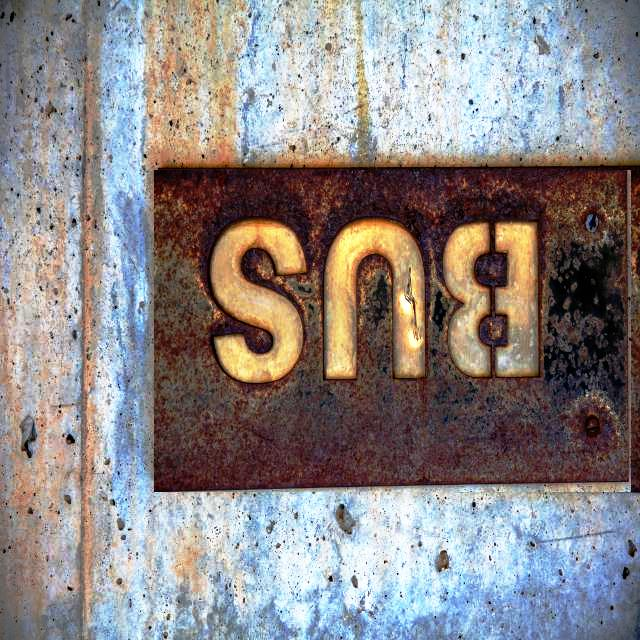Corrosion: (154, 380, 618, 491), (194, 167, 554, 256), (154, 168, 227, 421), (528, 244, 625, 414), (525, 166, 628, 300), (153, 310, 244, 460), (544, 244, 626, 400), (394, 356, 550, 419), (271, 346, 359, 419), (352, 254, 393, 400), (293, 230, 328, 383), (591, 366, 630, 482), (204, 370, 293, 414), (427, 260, 458, 378), (331, 367, 404, 417), (629, 180, 640, 493), (210, 314, 273, 354), (240, 248, 276, 290), (474, 252, 508, 287), (479, 314, 508, 347), (491, 344, 496, 378)
